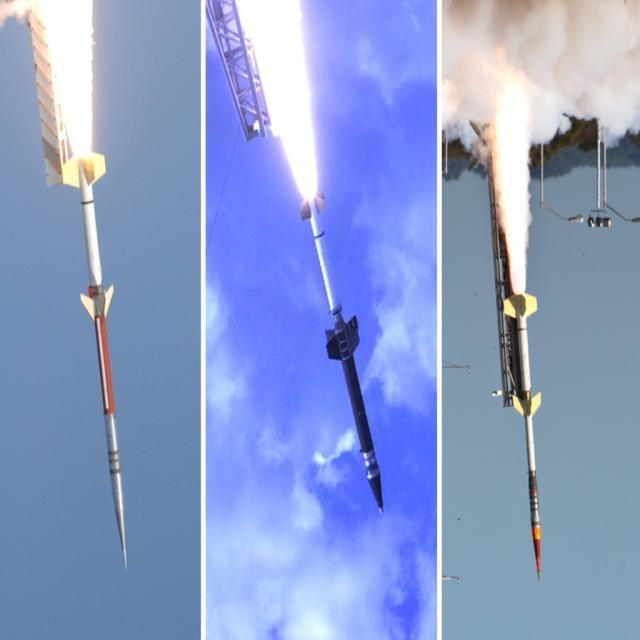missile: (62, 148, 136, 576), (318, 307, 398, 513), (498, 281, 548, 588), (60, 144, 116, 292), (294, 190, 352, 318)
